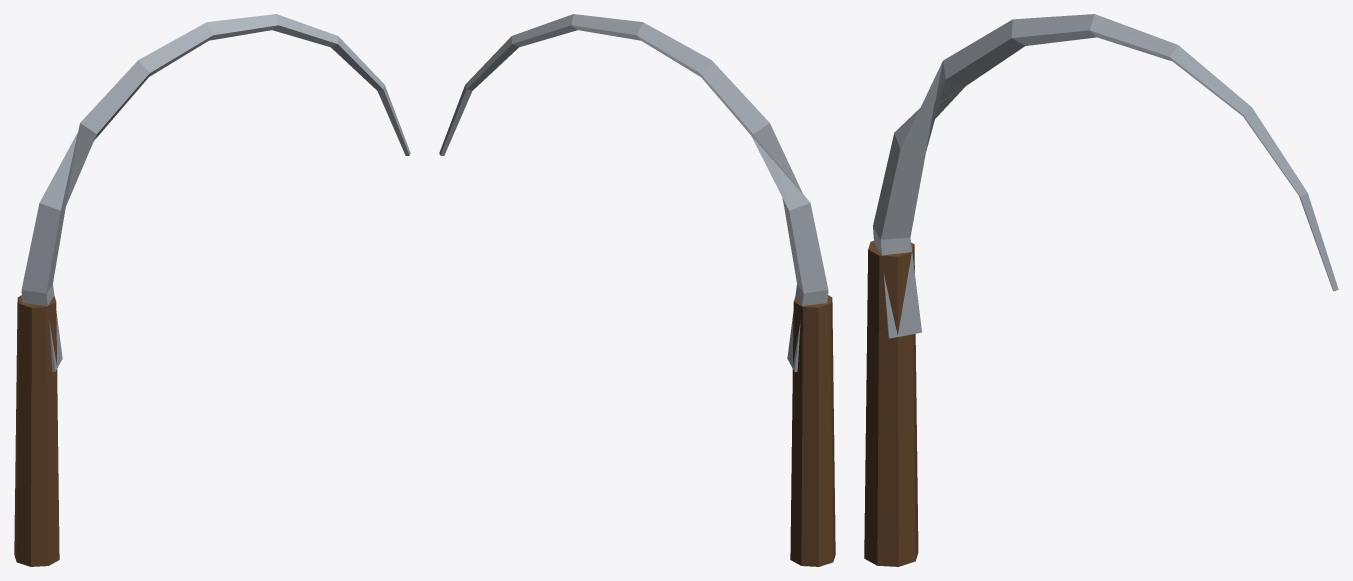
File: g-sickle.glb
3 renders of one model, left to right at view 1: azimuth 30°, elevation 25°; view 2: azimuth 150°, elevation 25°; view 3: azimuth 330°, elevation 25°, orthographic. The views are drawn at different scales.
Visible parts, largest first — view 1: g-sickle; view 2: g-sickle; view 3: g-sickle.
Part boxes in pixels (x1=…): g-sickle: x1=14, y1=14, x2=410, y2=566; g-sickle: x1=439, y1=14, x2=835, y2=566; g-sickle: x1=864, y1=14, x2=1338, y2=566.
Size of the model in its own units: 0.2719 by 0.3256 by 0.028.
